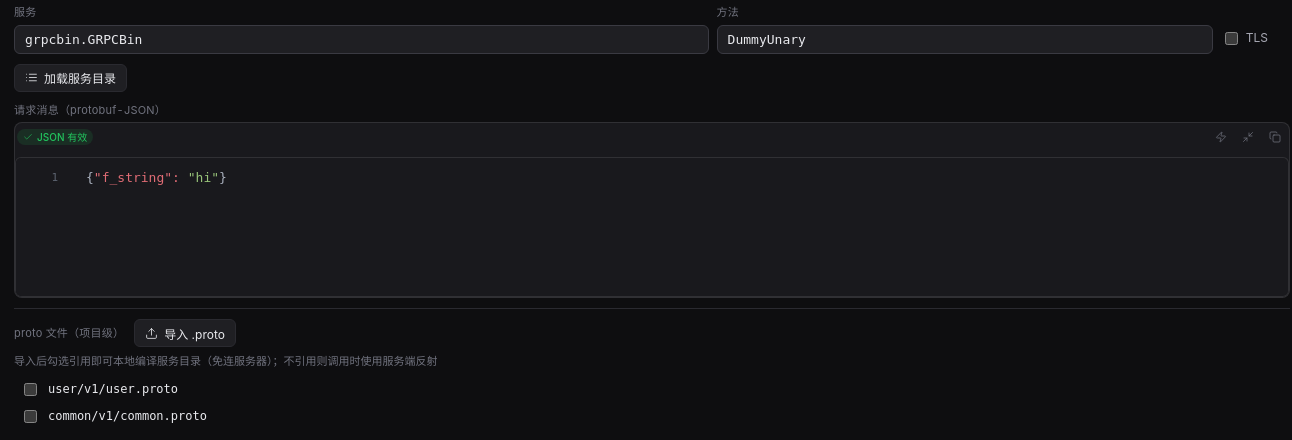
it: GrpcPanel：服务目录 › 目录加载失败 → 展示错误文案，不崩溃
This screenshot has width=1292, height=440.
Click the button "加载服务目录" at [70, 78], box [14,64,127,92]
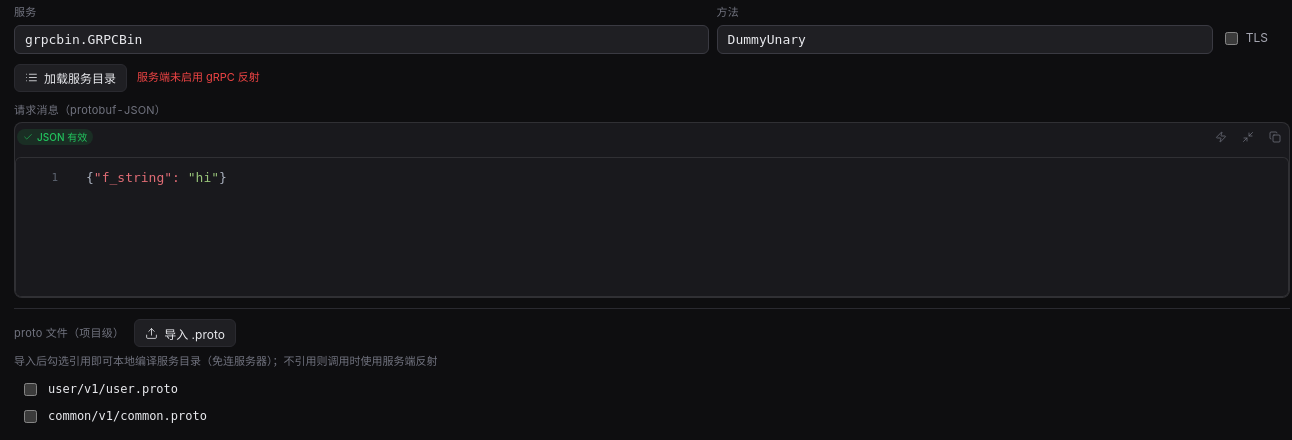
Expected: the text "服务端未启用 gRPC 反射" is shown, [137,69,260,86]
